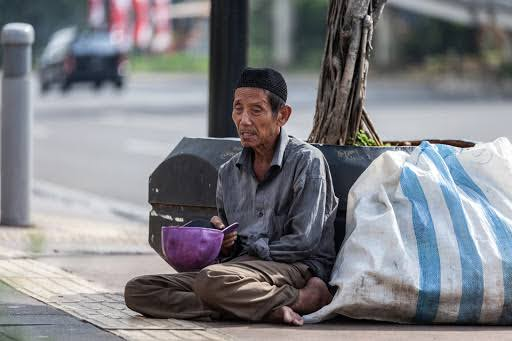gelandangan: (121, 65, 512, 325)
